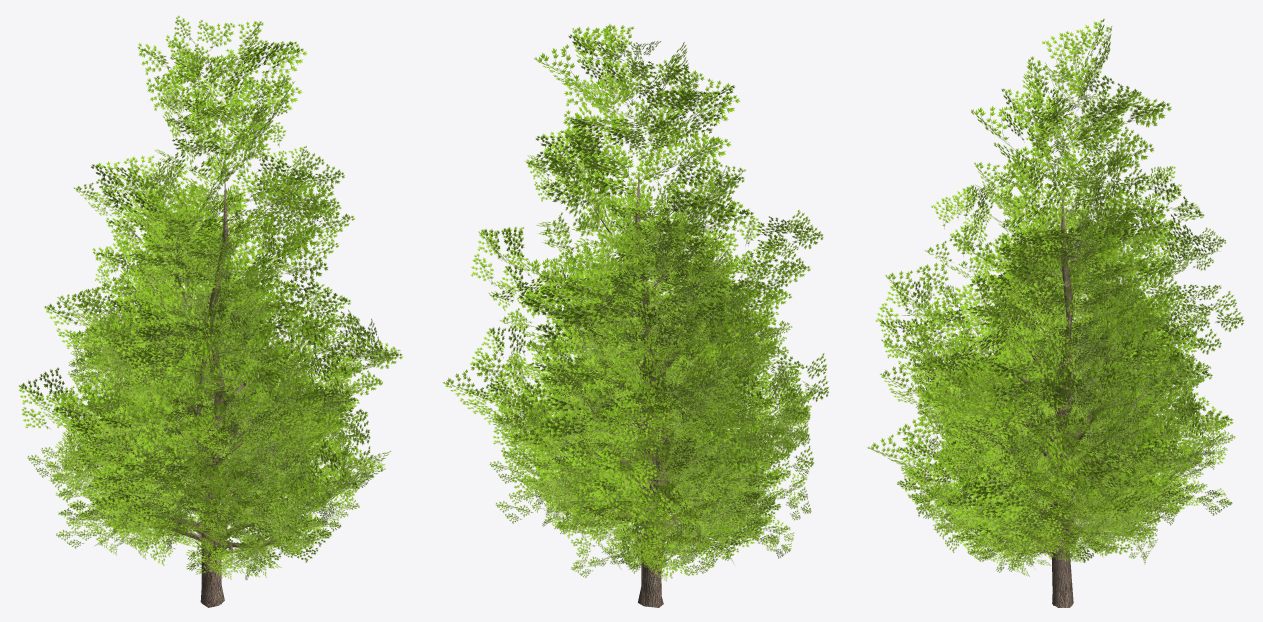
The model's file is trees.glb.
3 views of the same model, side by side, from view 1: azimuth 30°, elevation 25°; view 2: azimuth 150°, elevation 25°; view 3: azimuth 270°, elevation 25° (orthographic).
Visible parts, largest first — view 1: tree_tall, tree_wide, tree_medium, tree_small; view 2: tree_tall, tree_wide, tree_medium, tree_small; view 3: tree_tall, tree_wide, tree_medium, tree_small.
Part boxes in pixels (x1,y1,x2,y2): tree_tall: (18,15,402,605); tree_wide: (27,219,374,607); tree_medium: (62,181,341,551); tree_small: (118,302,308,562); tree_tall: (442,23,828,606); tree_wide: (489,219,814,607); tree_medium: (518,194,796,554); tree_small: (542,312,733,569); tree_tall: (867,19,1244,605); tree_wide: (897,204,1235,607); tree_medium: (930,173,1199,552); tree_small: (965,310,1155,568).
Bounding box in the file's own units: 5.95 × 9.37 × 5.7.
2 materials, 2 textured.
